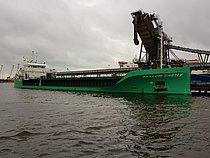Ship: (12, 47, 197, 101)
